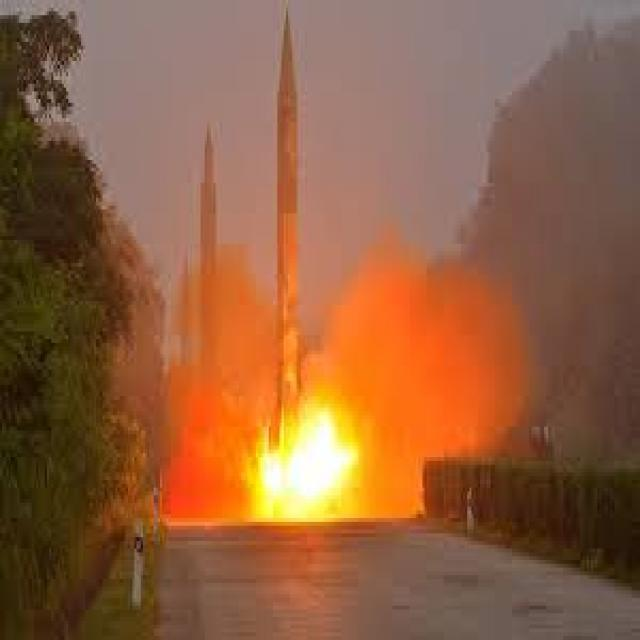missile: (273, 4, 301, 426), (195, 125, 219, 388)
